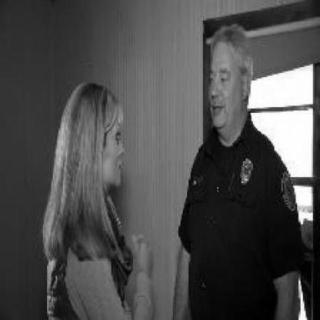other: (104, 208, 130, 286), (48, 214, 68, 312)
